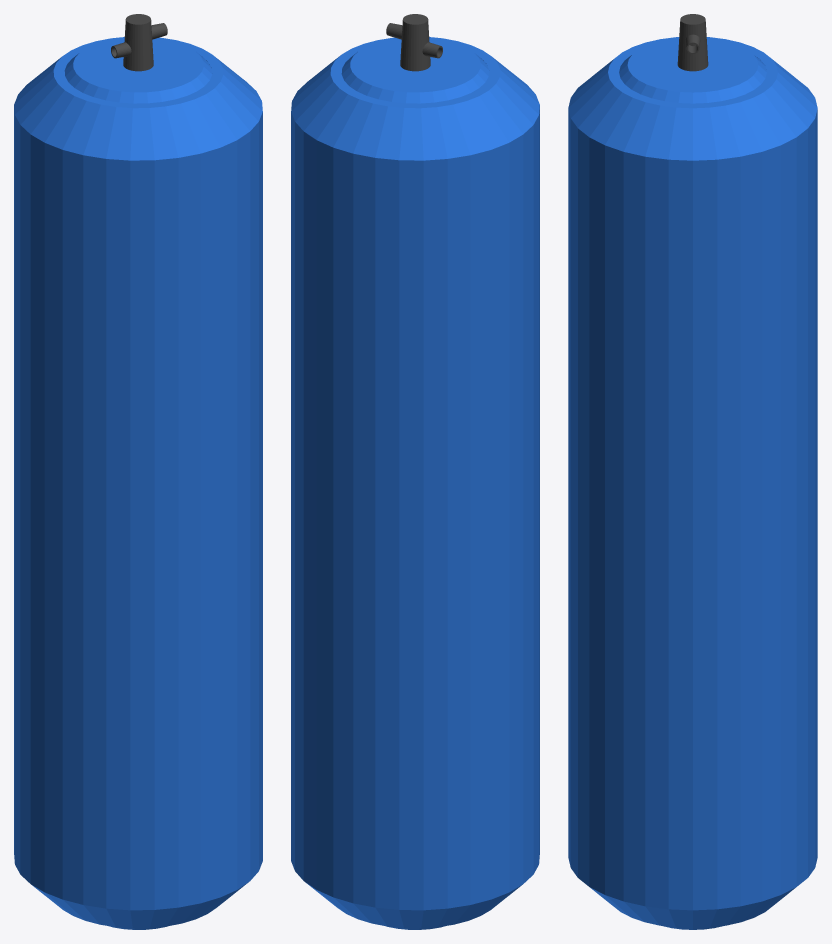
Rendered from SpeedPickUp.fbx.
3 renders of one model, left to right at view 1: azimuth 30°, elevation 25°; view 2: azimuth 150°, elevation 25°; view 3: azimuth 270°, elevation 25°, orthographic.
Parts seen in each view (by area): view 1: Cylinder, Cylinder.001; view 2: Cylinder, Cylinder.001; view 3: Cylinder, Cylinder.001.
Part boxes in pixels (x1,y1,x2,y2): Cylinder: (14,37,262,929); Cylinder.001: (111,14,167,71); Cylinder: (291,37,539,929); Cylinder.001: (386,14,442,71); Cylinder: (568,37,817,929); Cylinder.001: (677,14,708,71).
Size of the model in its own units: 66.95 by 263 by 66.95.
